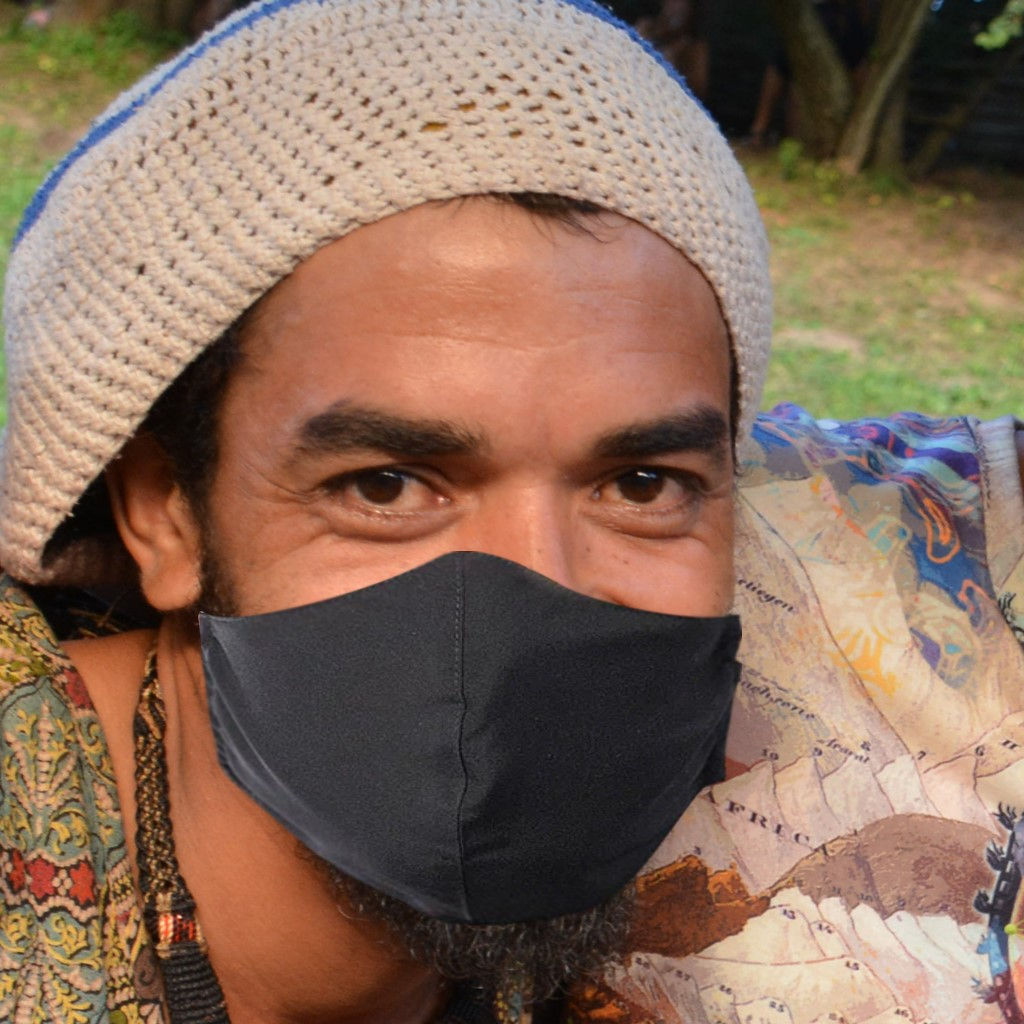con_mascara: (130, 46, 722, 938)
